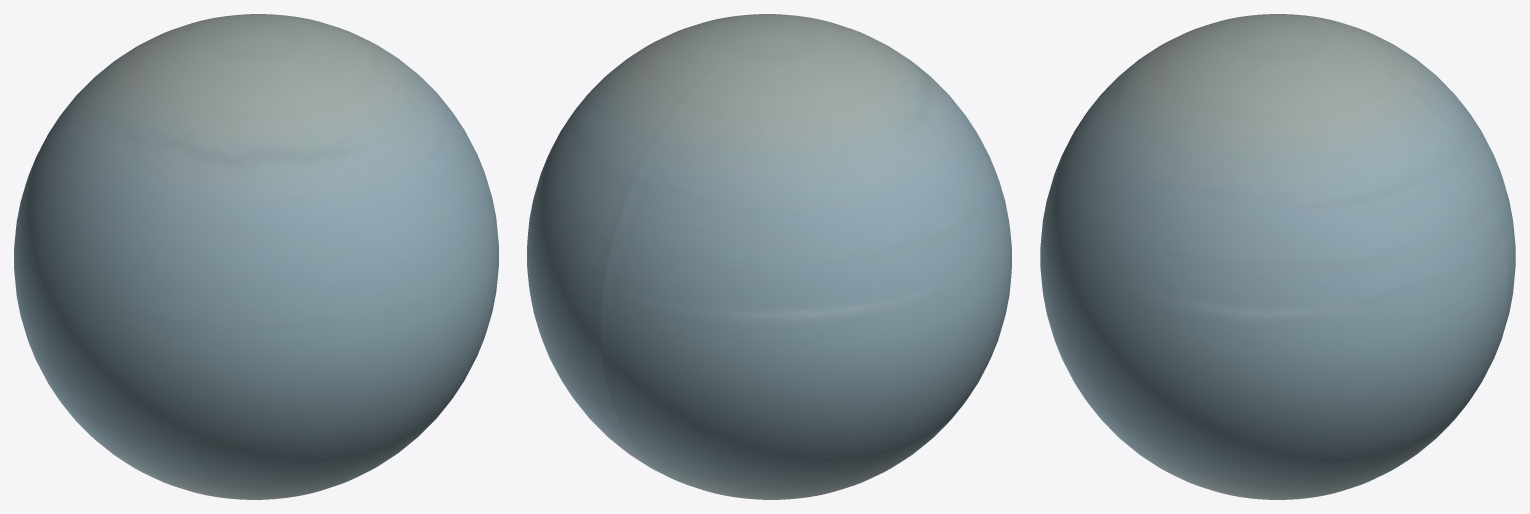
Rendered from uranus.glb.
The picture shows the model from 3 angles, left to right: view 1: azimuth 30°, elevation 25°; view 2: azimuth 150°, elevation 25°; view 3: azimuth 270°, elevation 25°; orthographic projection.
Parts seen in each view (by area): view 1: uranus; view 2: uranus; view 3: uranus.
Boxes of the visible parts, x1,y1,x2,y2 form: uranus: [14, 14, 498, 499]; uranus: [527, 14, 1011, 499]; uranus: [1040, 14, 1515, 499].
Size of the model in its own units: 51.12 by 51.12 by 49.95.
1 material, 1 textured.
